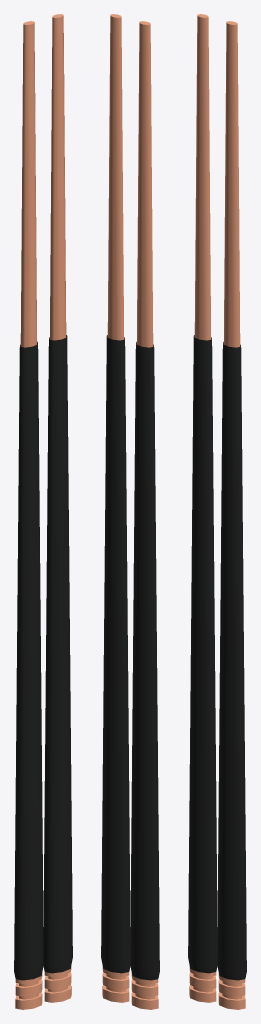
The model's file is Chopsticks.glb.
3 renders of one model, left to right at view 1: azimuth 30°, elevation 25°; view 2: azimuth 150°, elevation 25°; view 3: azimuth 330°, elevation 25°, orthographic.
Parts seen in each view (by area): view 1: chopsticks_Cylinder.121; view 2: chopsticks_Cylinder.121; view 3: chopsticks_Cylinder.121.
Boxes of the visible parts, <box> form: chopsticks_Cylinder.121: <box>14,14,72,1009</box>; chopsticks_Cylinder.121: <box>101,14,159,1009</box>; chopsticks_Cylinder.121: <box>188,14,246,1009</box>.
Size of the model in its own units: 0.3458 by 5.51 by 0.105.
1 material, 1 textured.
